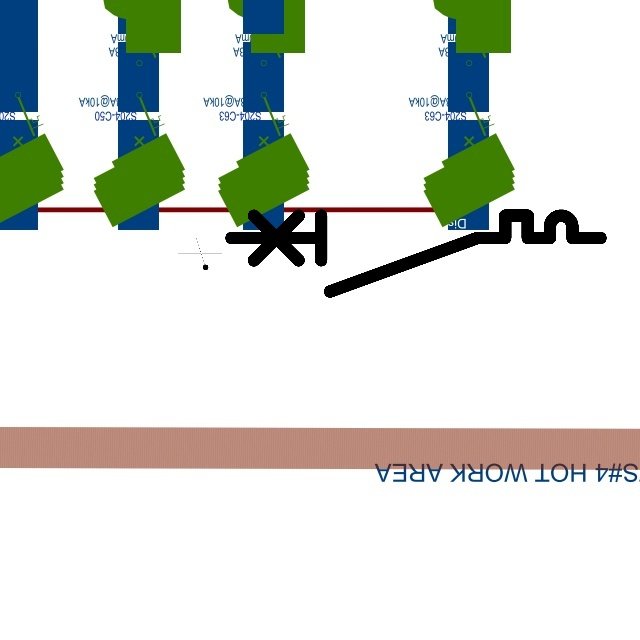interruptor_termomagnetico: (221, 206, 609, 301)
